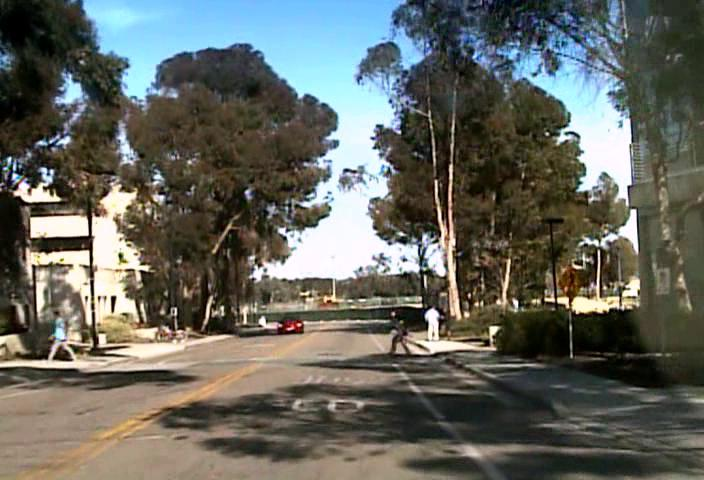pedestrianCrossing: (557, 264, 584, 299)
